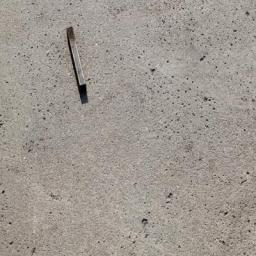FOD: (65, 22, 100, 106)
